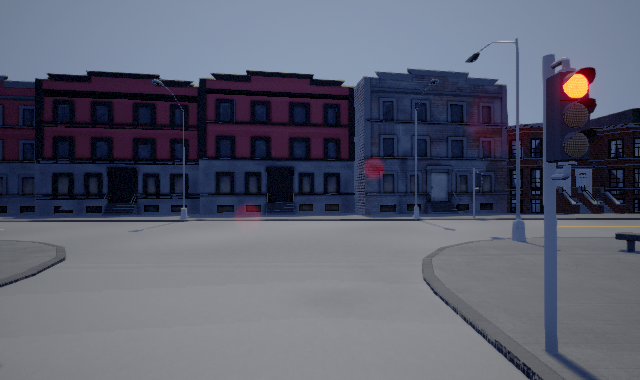traffic_light: (546, 57, 597, 180)
